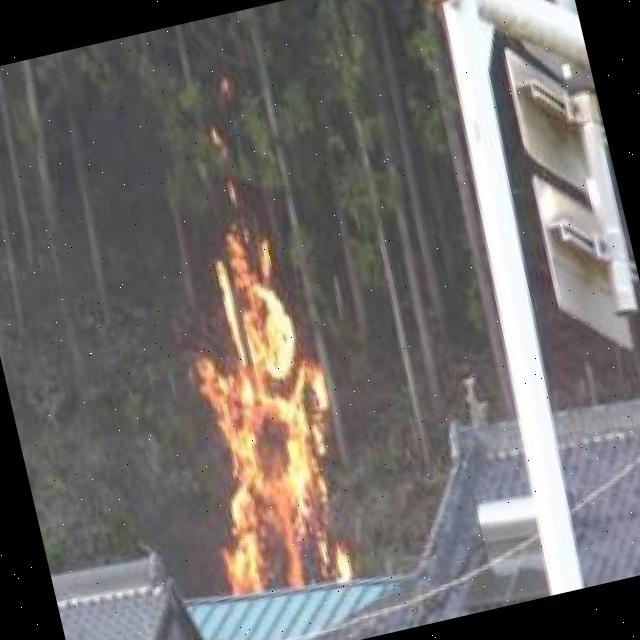fire: (160, 225, 372, 610)
